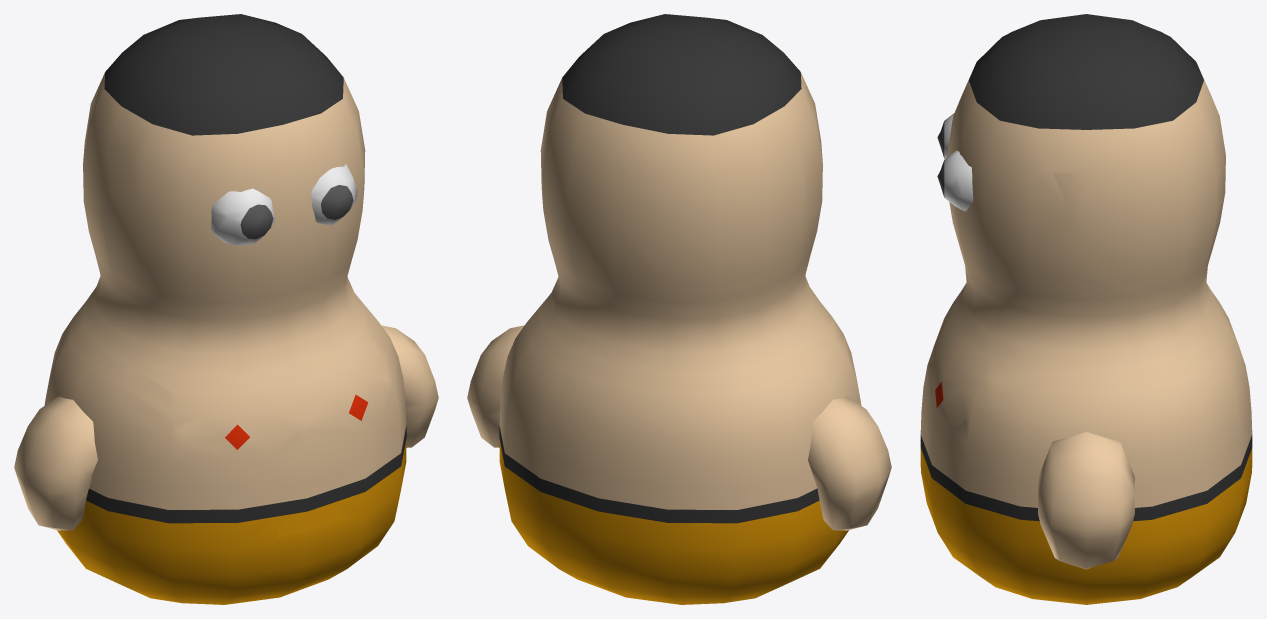
File: Human.fbx
3 renders of one model, left to right at view 1: azimuth 30°, elevation 25°; view 2: azimuth 150°, elevation 25°; view 3: azimuth 270°, elevation 25°, orthographic.
Parts seen in each view (by area): view 1: Cube.002; view 2: Cube.002; view 3: Cube.002.
Boxes of the visible parts, x1,y1,x2,y2 form: Cube.002: (14, 14, 438, 604); Cube.002: (467, 14, 891, 604); Cube.002: (920, 14, 1252, 604).
Bounding box in the file's own units: 0.6888 × 0.8862 × 0.492.
